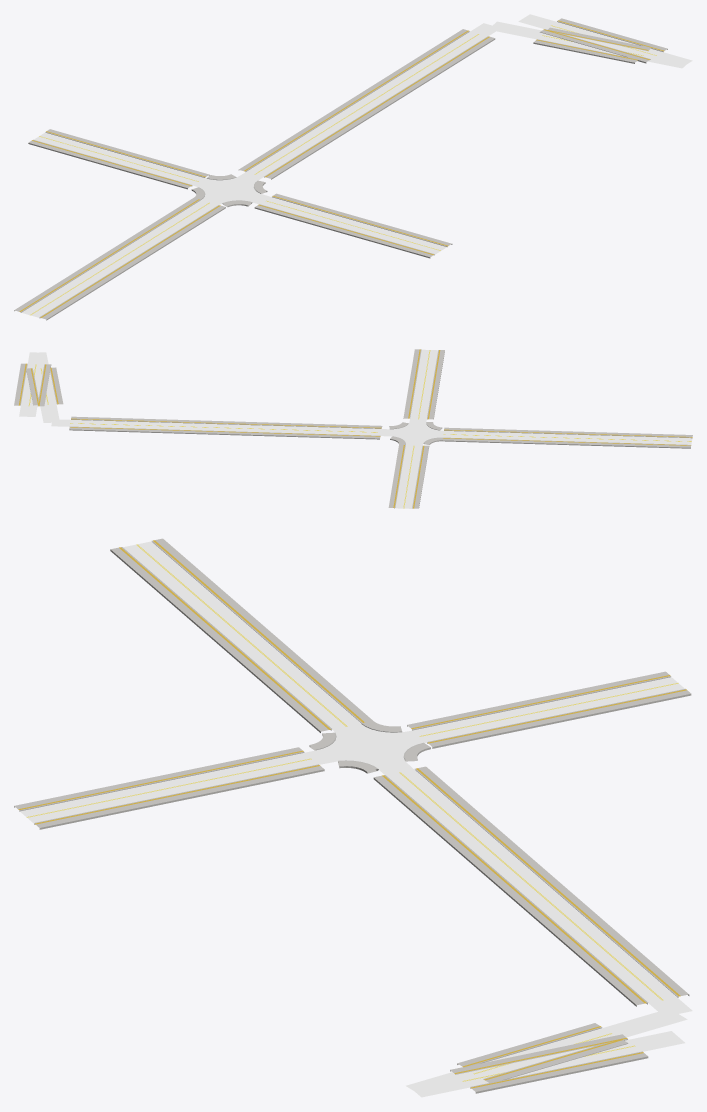
The model's file is roads_0_-3.gltf.
The picture shows the model from 3 angles, top to bottom: view 1: azimuth 30°, elevation 25°; view 2: azimuth 150°, elevation 25°; view 3: azimuth 270°, elevation 25°; orthographic projection. The views are drawn at different scales.
Parts seen in each view (by area): view 1: roads_0_-3_SH_wet_asphalt, roads_0_-3_SH_sidewalk, roads_0_-3_Road_Tactile_Strip, roads_0_-3_SH_kerb, roads_0_-3_SH_road_marking_white, roads_0_-3_SH_road_marking_yellow; view 2: roads_0_-3_SH_wet_asphalt, roads_0_-3_SH_sidewalk, roads_0_-3_Road_Tactile_Strip, roads_0_-3_SH_kerb, roads_0_-3_SH_road_marking_white, roads_0_-3_SH_road_marking_yellow; view 3: roads_0_-3_SH_wet_asphalt, roads_0_-3_SH_sidewalk, roads_0_-3_Road_Tactile_Strip, roads_0_-3_SH_kerb, roads_0_-3_SH_road_marking_white, roads_0_-3_SH_road_marking_yellow.
Boxes of the visible parts, box(x1,y1,x2,y2) form: roads_0_-3_SH_wet_asphalt: box(21, 14, 692, 317); roads_0_-3_SH_sidewalk: box(14, 18, 667, 320); roads_0_-3_Road_Tactile_Strip: box(19, 20, 664, 317); roads_0_-3_SH_kerb: box(20, 21, 663, 318); roads_0_-3_SH_road_marking_white: box(22, 22, 662, 317); roads_0_-3_SH_road_marking_yellow: box(30, 25, 656, 315); roads_0_-3_SH_wet_asphalt: box(19, 349, 692, 508); roads_0_-3_SH_sidewalk: box(14, 349, 692, 508); roads_0_-3_Road_Tactile_Strip: box(18, 349, 692, 508); roads_0_-3_SH_kerb: box(20, 349, 692, 508); roads_0_-3_SH_road_marking_white: box(21, 350, 686, 508); roads_0_-3_SH_road_marking_yellow: box(28, 350, 691, 508); roads_0_-3_SH_wet_asphalt: box(20, 541, 692, 1097); roads_0_-3_SH_sidewalk: box(14, 538, 691, 1093); roads_0_-3_Road_Tactile_Strip: box(18, 540, 686, 1088); roads_0_-3_SH_kerb: box(19, 541, 685, 1088); roads_0_-3_SH_road_marking_white: box(20, 541, 676, 1087); roads_0_-3_SH_road_marking_yellow: box(26, 544, 678, 1081).
Size of what is drawn, in the model's own units: 330 by 0.506 by 170.
